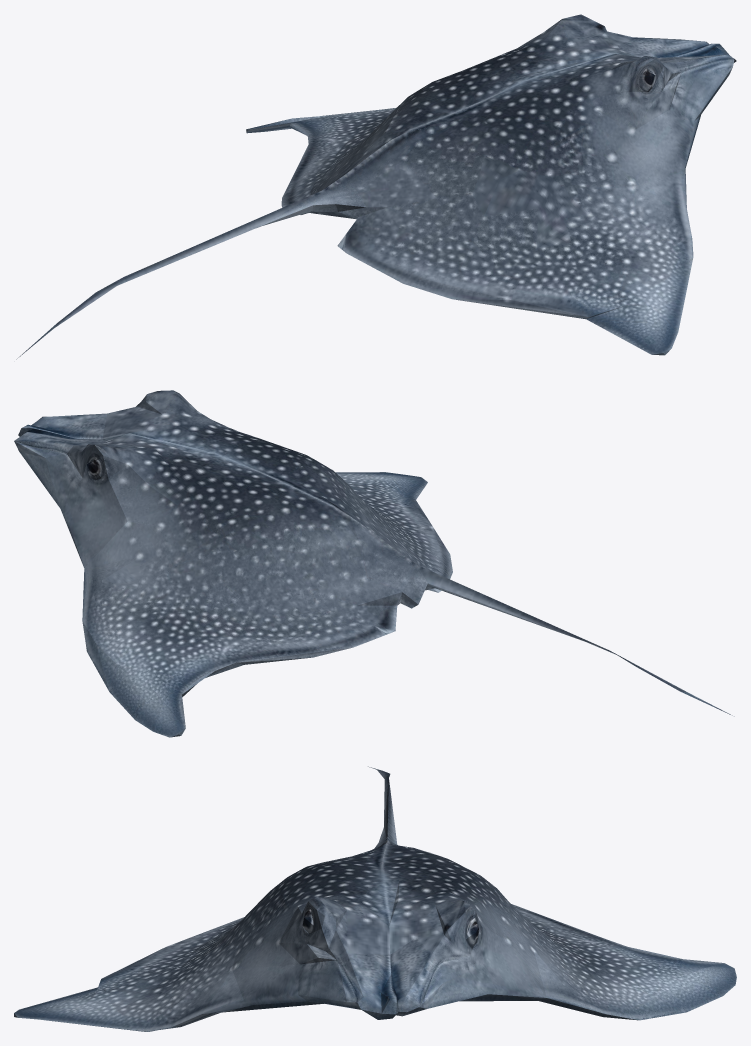
The model's file is mantaraya.fbx.
3 renders of one model, top to bottom at view 1: azimuth 30°, elevation 25°; view 2: azimuth 150°, elevation 25°; view 3: azimuth 270°, elevation 25°, orthographic. The views are drawn at different scales.
Parts seen in each view (by area): view 1: mantaraya.001; view 2: mantaraya.001; view 3: mantaraya.001.
Boxes of the visible parts, bbox=[...] form: mantaraya.001: bbox=[16, 14, 736, 359]; mantaraya.001: bbox=[14, 390, 734, 737]; mantaraya.001: bbox=[14, 766, 736, 1031].
Bounding box in the file's own units: 3.5 × 0.7931 × 2.8.
Materials: 1 (1 with a texture image).
